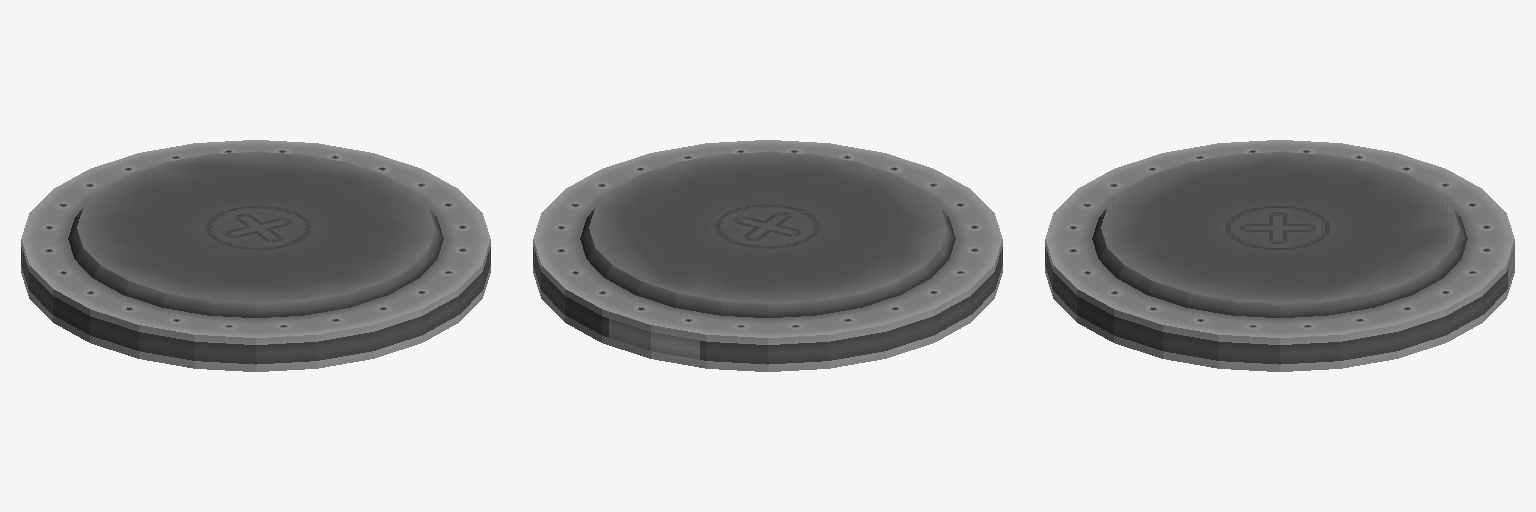
3 views of the same model, side by side, from view 1: azimuth 30°, elevation 25°; view 2: azimuth 150°, elevation 25°; view 3: azimuth 270°, elevation 25° (orthographic).
Visible parts, largest first — view 1: Knight_Control_A; view 2: Knight_Control_A; view 3: Knight_Control_A.
Boxes of the visible parts, box(x1,y1,x2,y2) form: Knight_Control_A: box(21, 140, 490, 371); Knight_Control_A: box(533, 140, 1002, 371); Knight_Control_A: box(1045, 140, 1514, 371).
Size of the model in its own units: 0.9375 by 0.125 by 0.9375.
1 materials, 1 textured.